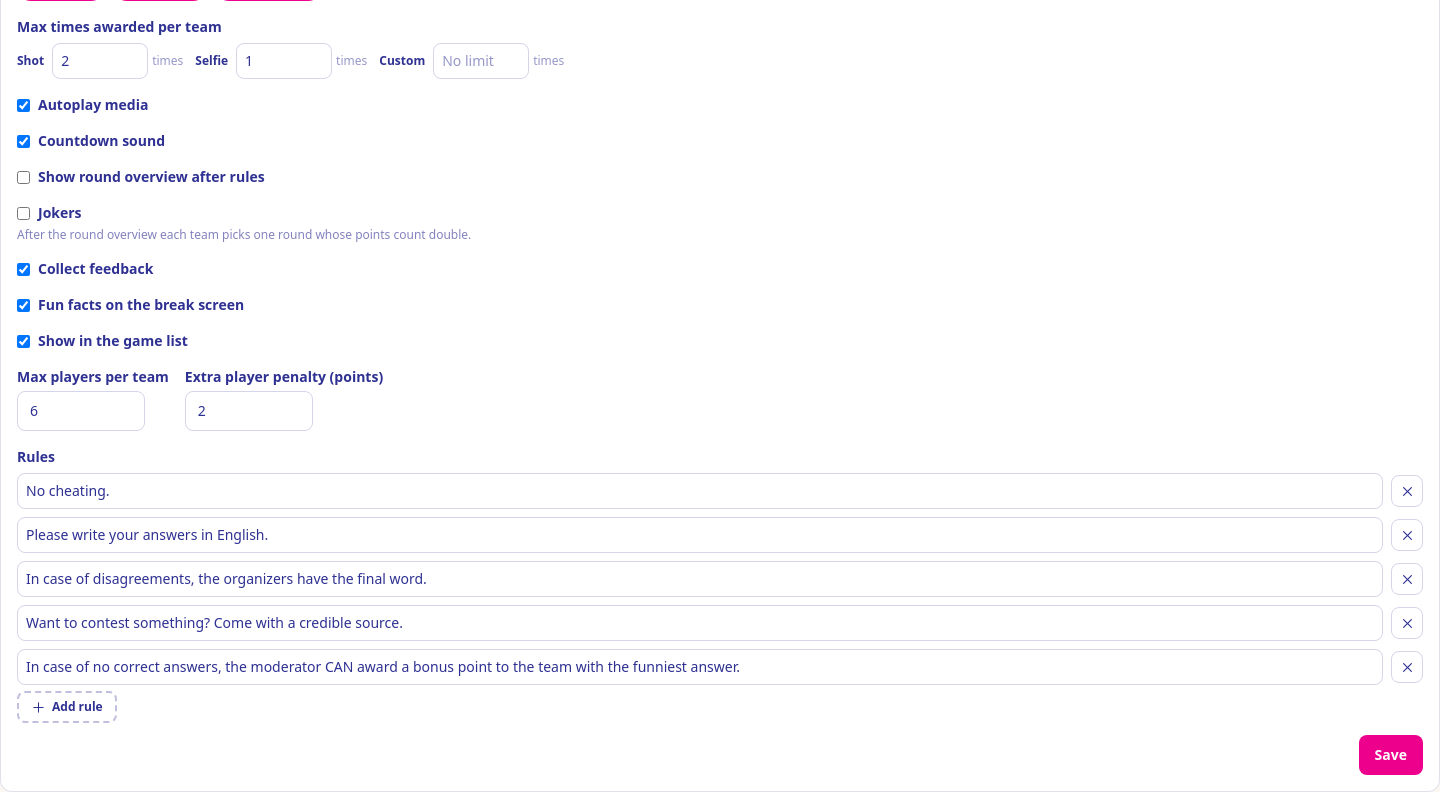
Test: SessionSettingsPanel › shows an error toast when saving fails
(page scrolled)
Click the button "Save" at (1391, 755), box [1359,735,1423,775]
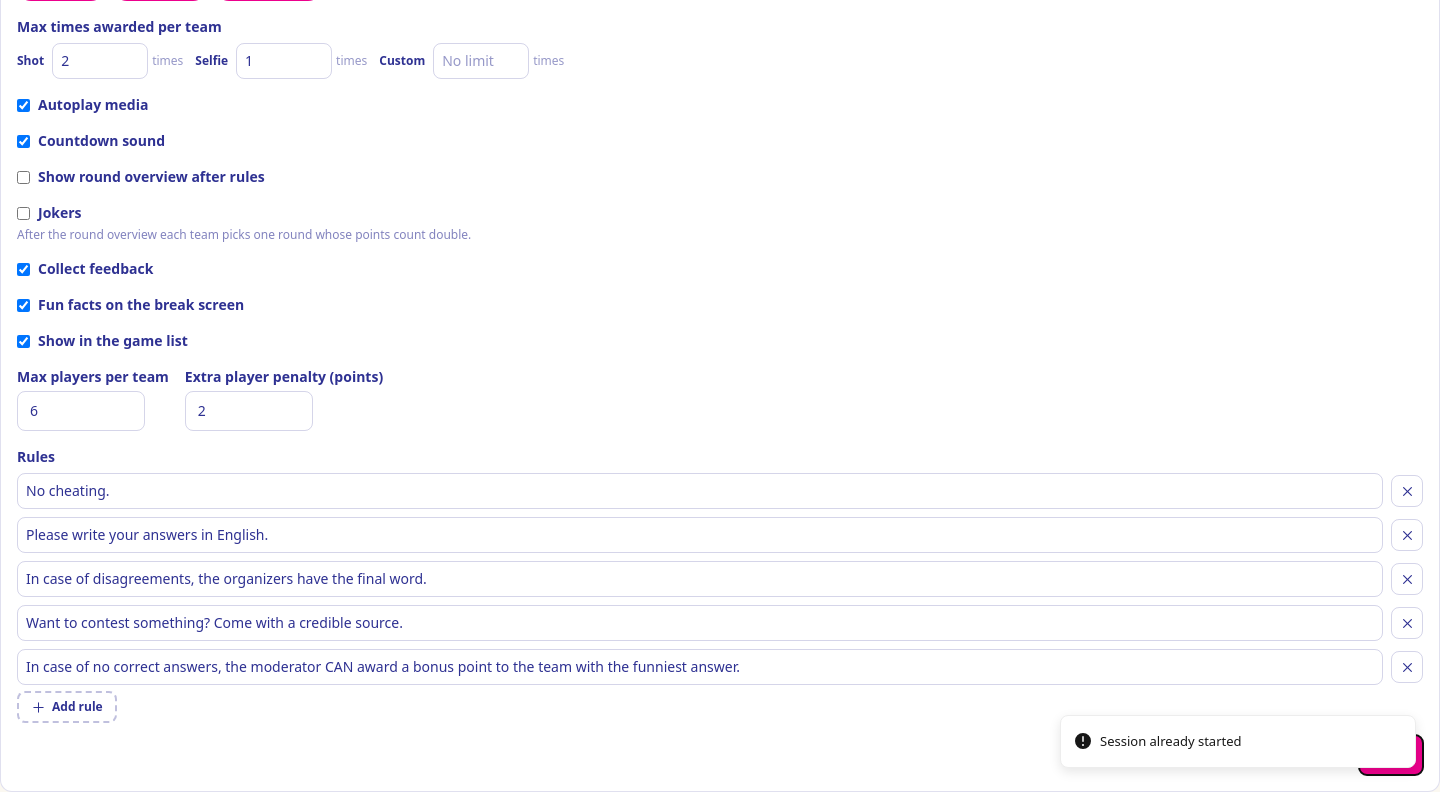
Result: the text "Session already started" is shown at [1100,732,1242,751]
